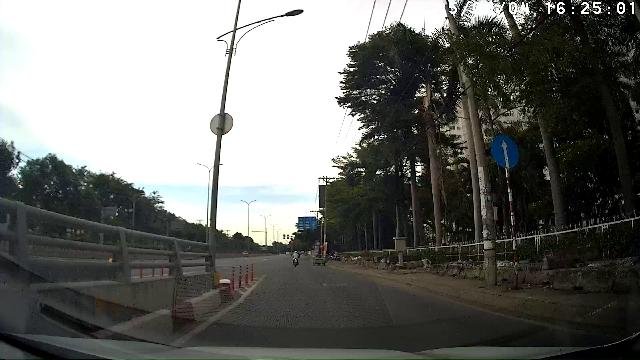301a-cac-xe-chi-duoc-di-thang: (490, 134, 520, 169)
